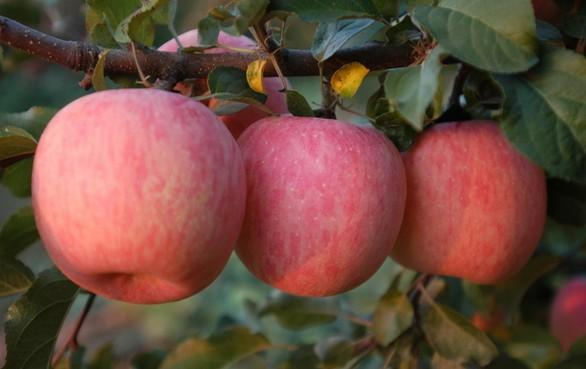apple: (28, 92, 278, 298), (234, 118, 407, 299), (394, 121, 544, 281)
